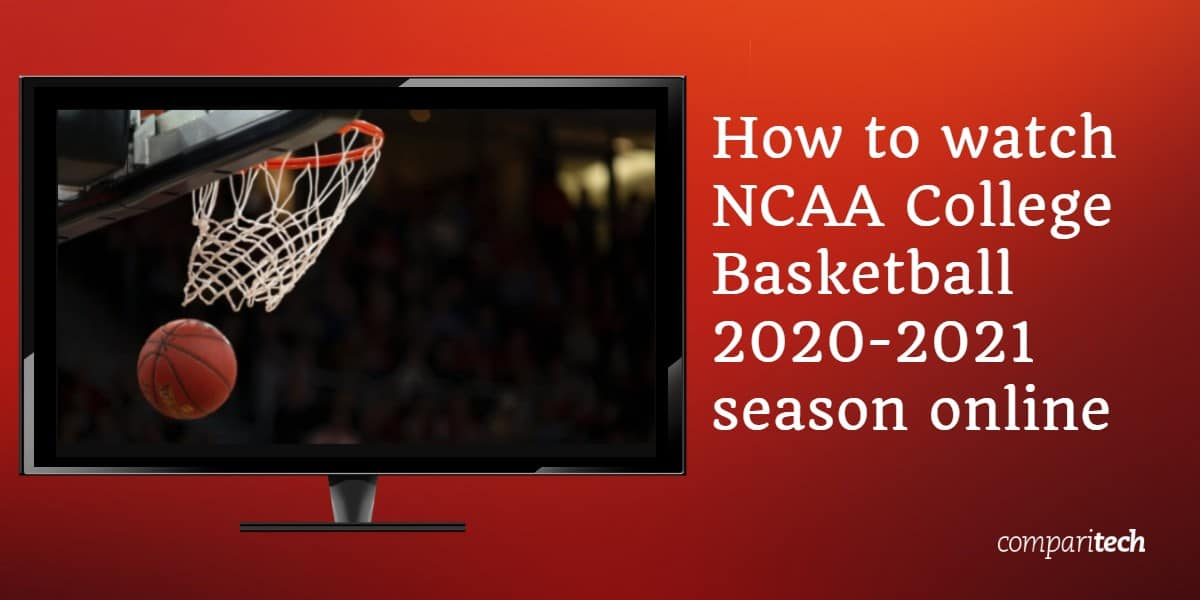b_ball: (126, 319, 242, 423)
basket: (148, 107, 373, 310)
